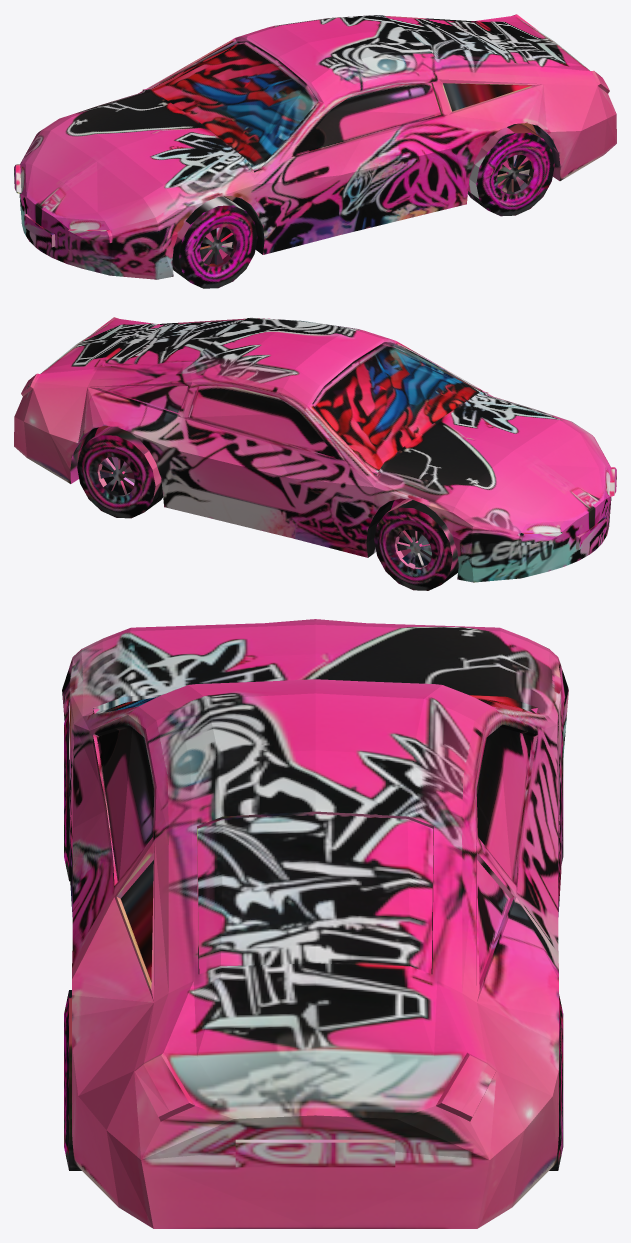
3 views of the same model, one above another, from view 1: azimuth 30°, elevation 25°; view 2: azimuth 150°, elevation 25°; view 3: azimuth 270°, elevation 25° (orthographic). The views are drawn at different scales.
Parts seen in each view (by area): view 1: textured.obj; view 2: textured.obj; view 3: textured.obj.
Boxes of the visible parts, bbox=[...] form: textured.obj: bbox=[14, 14, 616, 288]; textured.obj: bbox=[14, 317, 616, 590]; textured.obj: bbox=[62, 619, 568, 1228].
Bounding box in the file's own units: 2 × 0.5787 × 0.8135.
